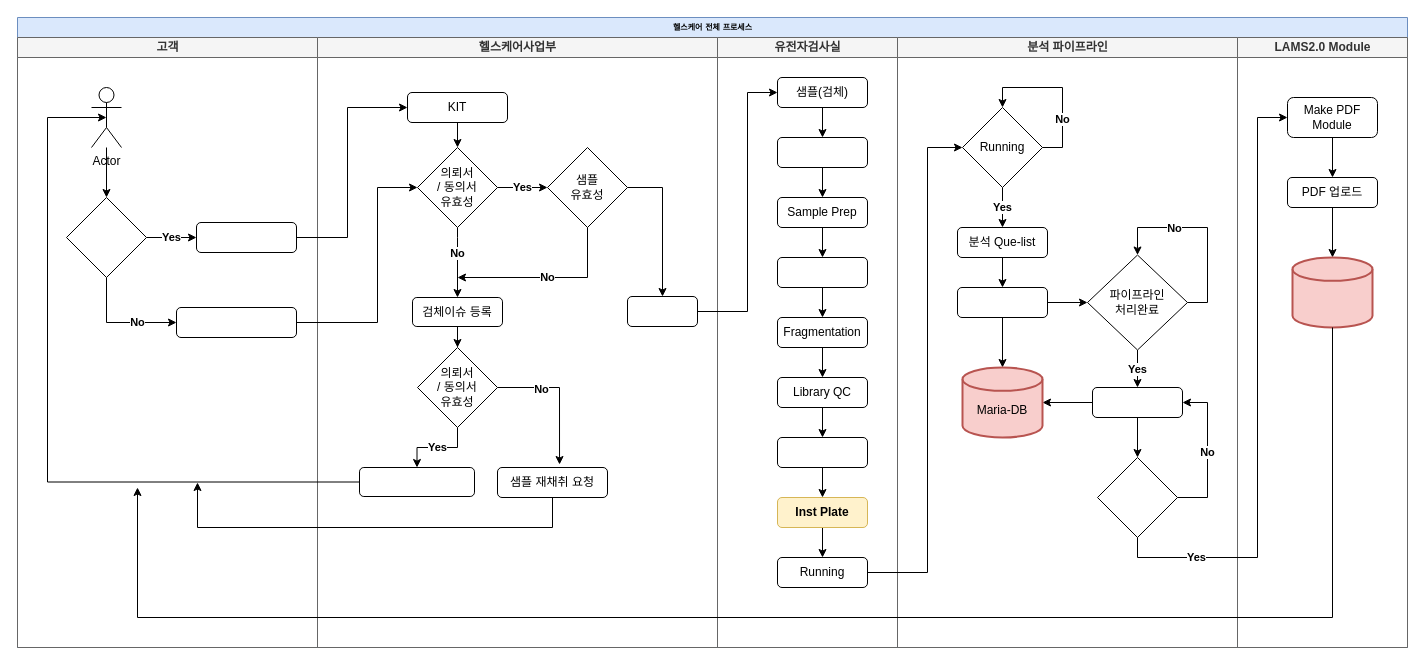
This 1425x665 diagram has some shape labels left out. The shapes that lost their labels are listed below. From the top down, each one's centre as x and y in pixels, then its label:
point 822,152: 주문접수
point 106,237: 상품 신규구매 고객
point 246,237: 샘플채취
point 822,272: Sample QC
point 1332,292: 레포트 정보 저장
point 236,322: 의뢰서/동의서
point 662,311: 샘플입고
point 1002,302: R 분석
point 1137,402: py 모듈
point 822,452: Amplification
point 416,481: 의뢰서/동의서 요청
point 1137,497: 분석 완료
